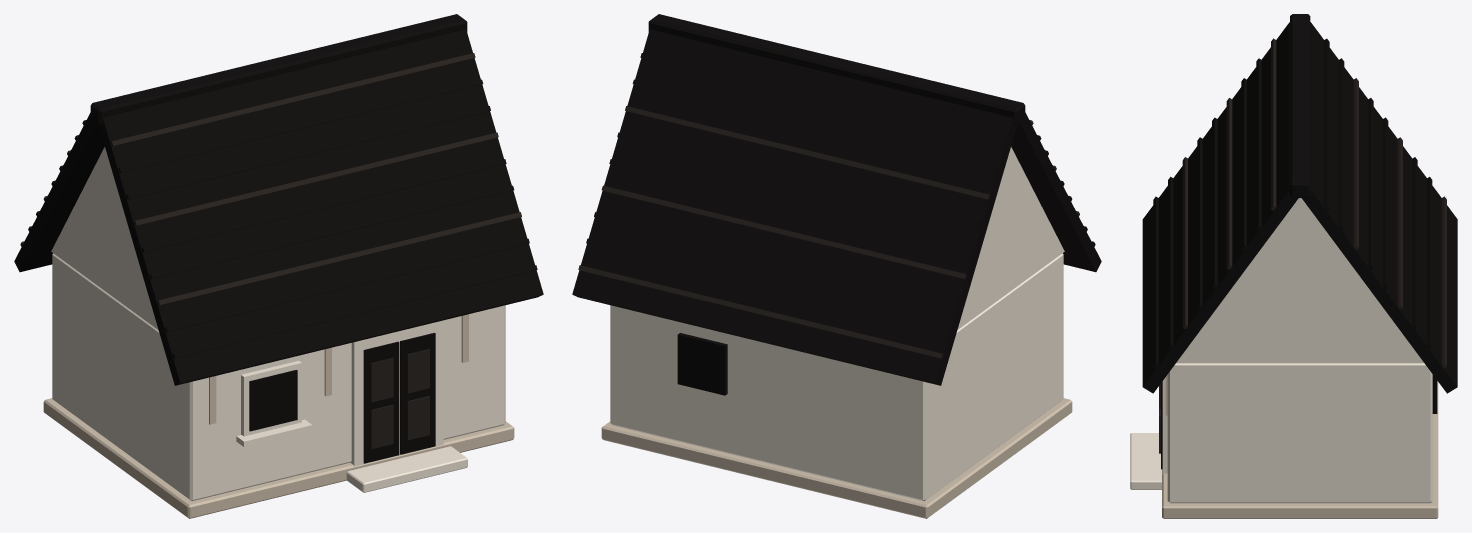
Rendered from lake_house.glb.
3 views of the same model, side by side, from view 1: azimuth 30°, elevation 25°; view 2: azimuth 150°, elevation 25°; view 3: azimuth 270°, elevation 25° (orthographic). The views are drawn at different scales.
Parts seen in each view (by area): view 1: lake_house; view 2: lake_house; view 3: lake_house.
Part boxes in pixels (x1=…): lake_house: x1=14, y1=14, x2=543, y2=518; lake_house: x1=572, y1=14, x2=1101, y2=518; lake_house: x1=1130, y1=14, x2=1457, y2=518.
Size of the model in its own units: 7 by 6.63 by 5.68.
